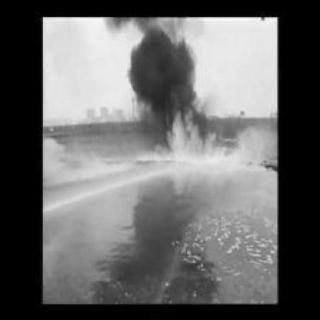Fire: (146, 88, 228, 164)
Smoke: (102, 16, 210, 112)
